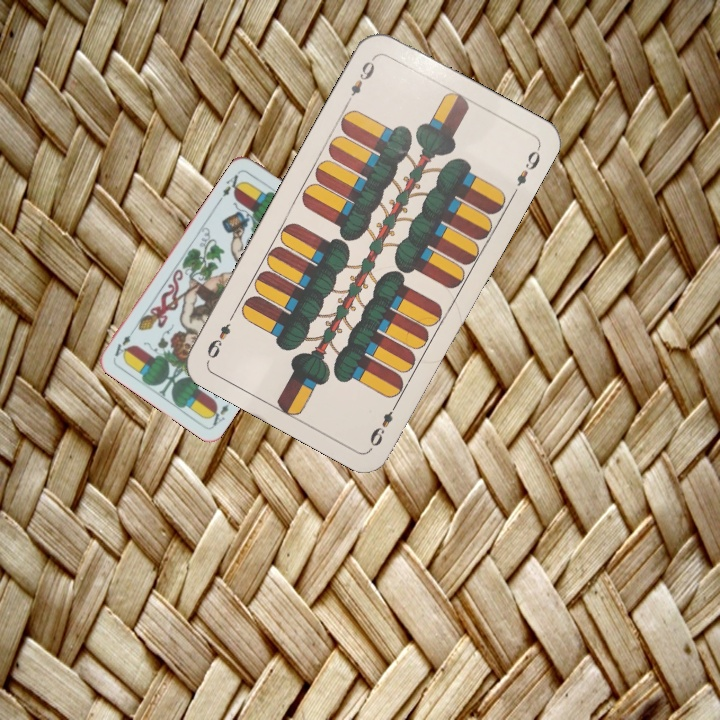E9: (365, 397, 401, 450), (346, 53, 378, 99)
EA: (205, 393, 237, 428), (215, 167, 246, 203)
